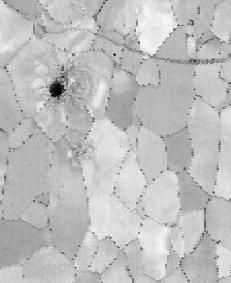good_void: (37, 70, 69, 110), (67, 140, 95, 167), (193, 3, 206, 17), (185, 17, 196, 27), (112, 51, 119, 58), (215, 50, 223, 56), (122, 22, 127, 28)
